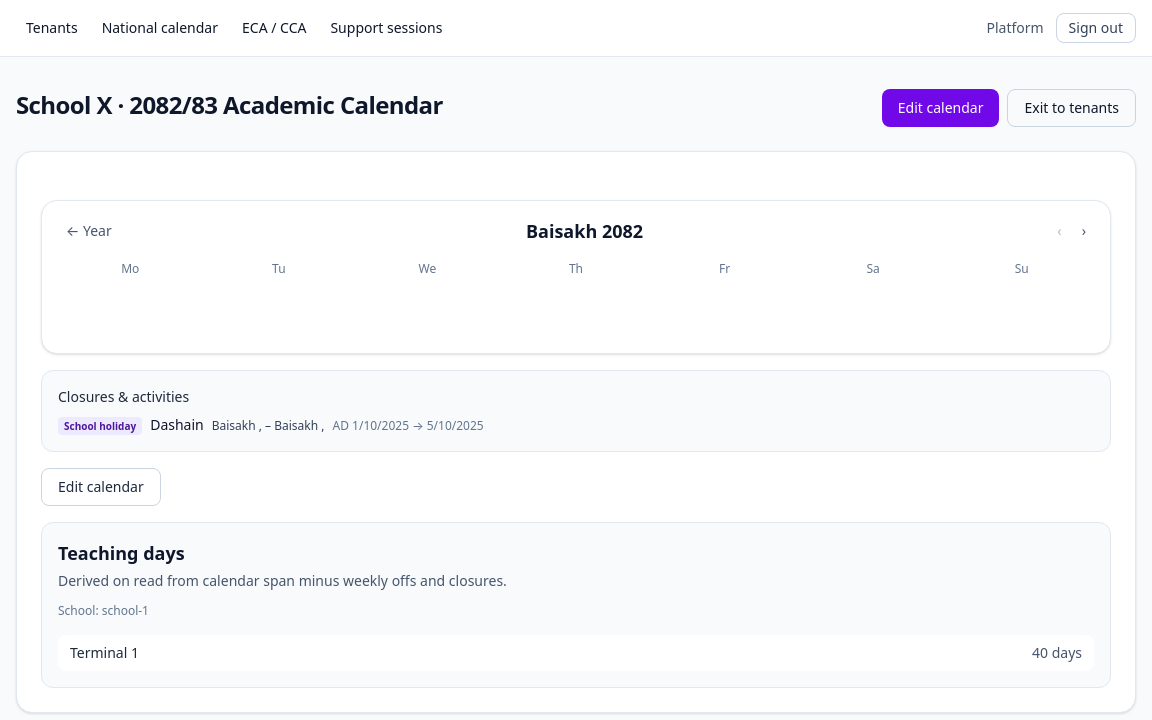
Test: TenantCalendarPage › loads approved calendar as read-only with Edit action
expect the heading with test id "tenant-calendar-approved-title" reads "School X · 2082/83 Academic Calendar": met, box [16, 88, 443, 121]
Click the button with test id "tenant-calendar-edit": (941, 108) [882, 89, 1000, 127]
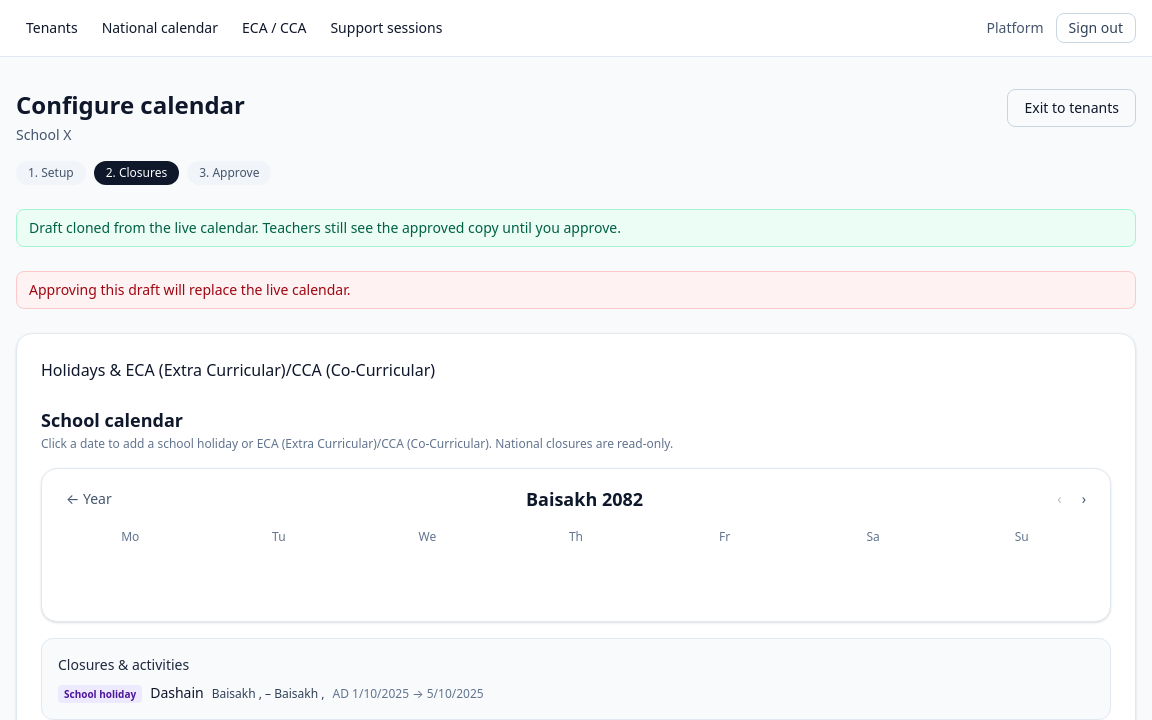
expect the message "Approving this draft will replace the live calendar." is shown: met, box [16, 271, 1136, 309]
expect the heading "Configure calendar" is shown: met, box [16, 89, 272, 121]
